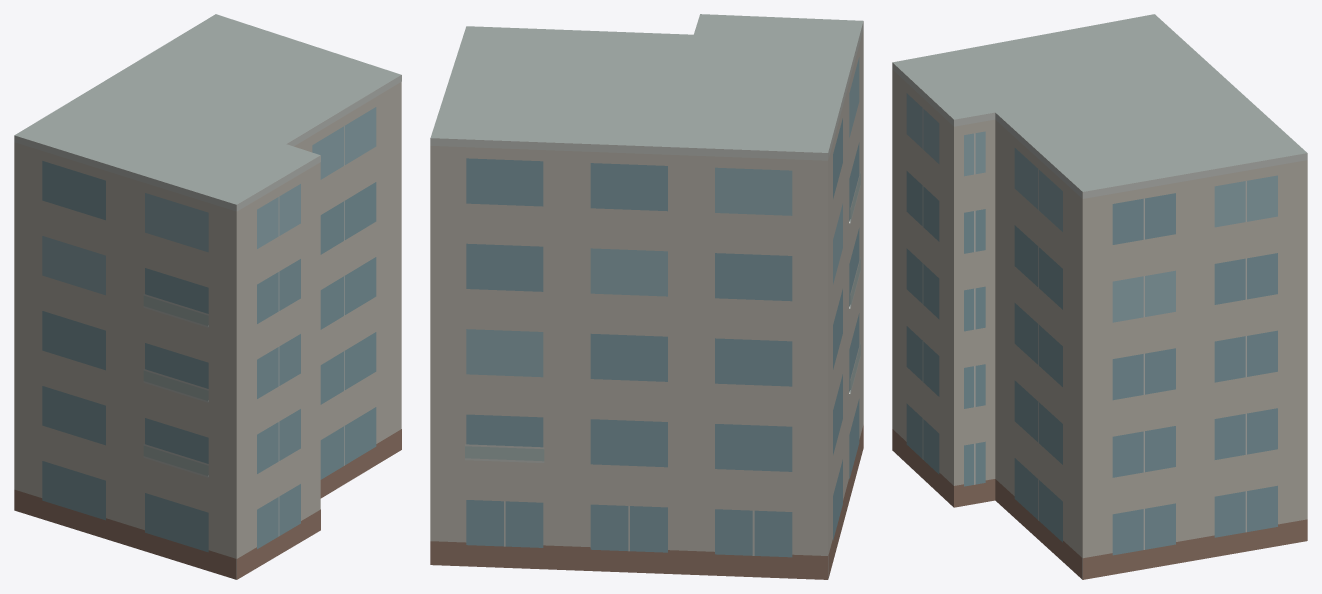
Rendered from survey-upis-32926429.glb.
3 views of the same model, side by side, from view 1: azimuth 30°, elevation 25°; view 2: azimuth 150°, elevation 25°; view 3: azimuth 270°, elevation 25° (orthographic). The views are drawn at different scales.
Visible parts, largest first — view 1: survey-upis-32926429.tmp; view 2: survey-upis-32926429.tmp; view 3: survey-upis-32926429.tmp.
Part boxes in pixels (bbox=[...]): survey-upis-32926429.tmp: bbox=[14, 14, 401, 579]; survey-upis-32926429.tmp: bbox=[430, 14, 863, 579]; survey-upis-32926429.tmp: bbox=[892, 14, 1307, 579].
Bounding box in the file's own units: 13.29 × 13.5 × 13.11.
